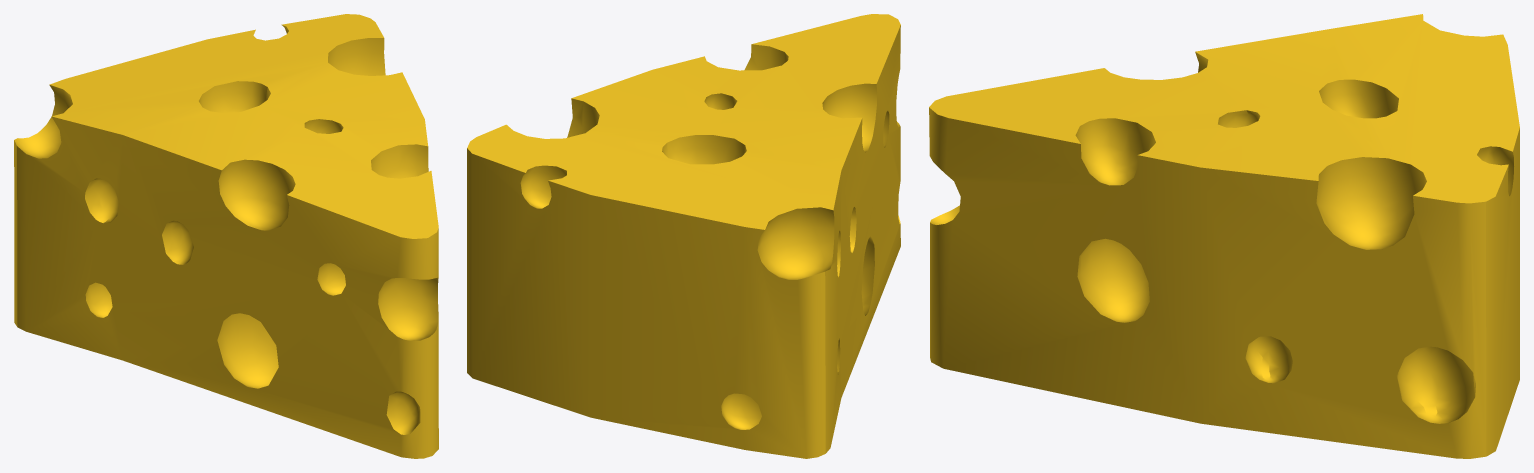
The model's file is cheese.obj.
3 renders of one model, left to right at view 1: azimuth 30°, elevation 25°; view 2: azimuth 150°, elevation 25°; view 3: azimuth 270°, elevation 25°, orthographic. The views are drawn at different scales.
Visible parts, largest first — view 1: cheese; view 2: cheese; view 3: cheese.
Part boxes in pixels (x1,y1,x2,y2): cheese: (14,14,438,458); cheese: (467,14,900,458); cheese: (929,14,1519,458).
Bounding box in the file's own units: 157 × 95.9 × 198.
